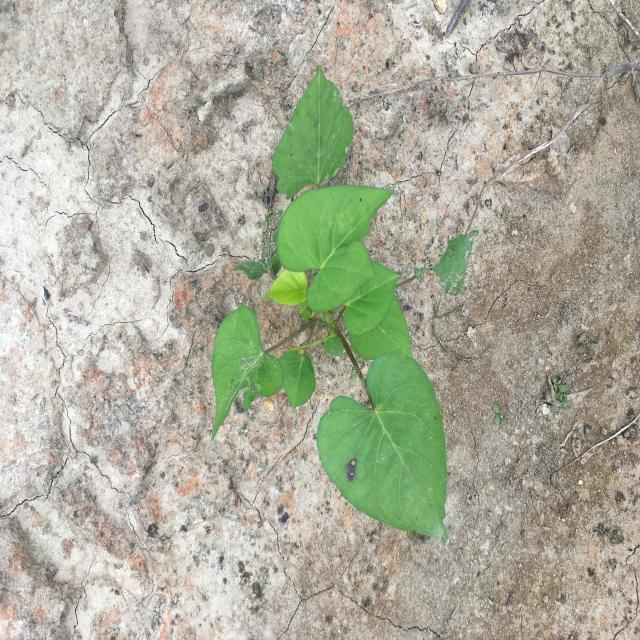MorningGlory: (212, 64, 479, 547)
